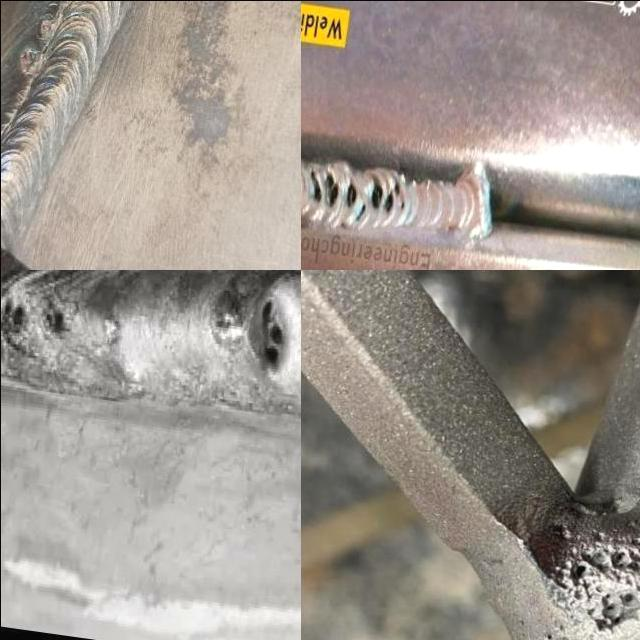defect: (566, 514, 640, 599), (257, 288, 288, 378), (351, 176, 402, 223), (584, 590, 637, 631), (35, 297, 73, 345), (0, 292, 32, 339), (16, 44, 37, 72), (34, 14, 53, 43), (541, 622, 569, 640), (324, 173, 338, 206), (308, 169, 322, 202), (344, 180, 357, 209), (514, 615, 525, 628), (7, 100, 14, 109), (399, 199, 404, 209)
